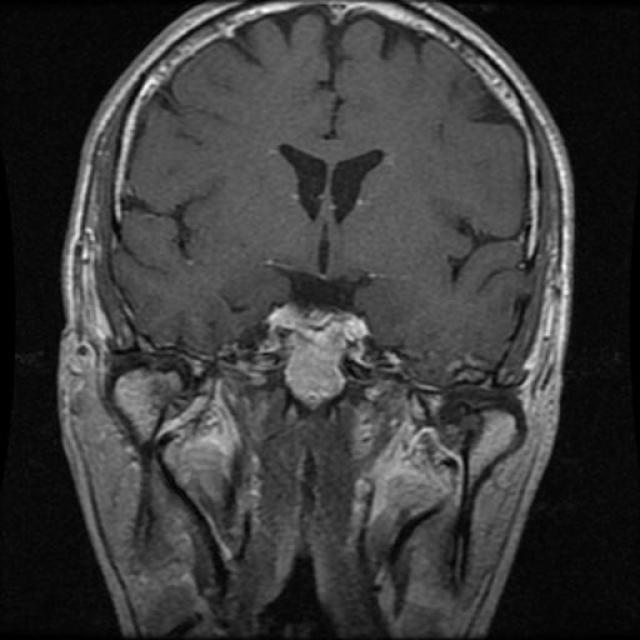pituitary: (262, 303, 372, 418)
